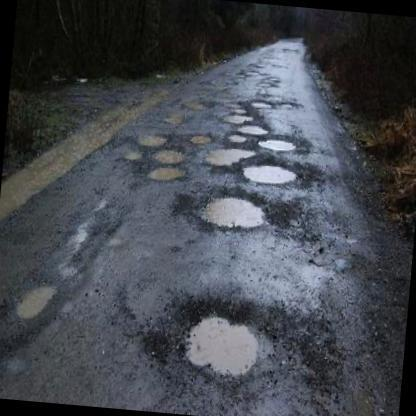pothole: (178, 306, 288, 386), (58, 192, 124, 276), (198, 184, 275, 238), (302, 312, 346, 390), (11, 277, 64, 328), (196, 144, 260, 174), (240, 160, 308, 188), (254, 134, 307, 156), (145, 162, 188, 185), (150, 146, 191, 168), (120, 138, 146, 166), (220, 110, 260, 126), (236, 122, 277, 137), (138, 131, 172, 148), (164, 105, 190, 126), (181, 98, 214, 112), (226, 130, 250, 148), (190, 132, 215, 148), (251, 97, 273, 111), (277, 100, 303, 110)
